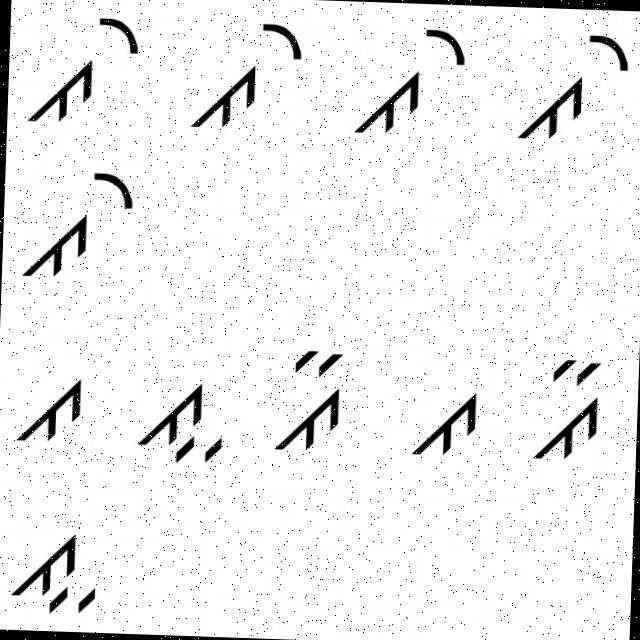ka: (398, 374, 480, 466), (14, 366, 89, 454)
kah: (133, 367, 230, 478), (5, 524, 105, 622)
kan: (270, 342, 352, 460), (524, 348, 606, 465)
kay: (188, 6, 310, 147), (11, 156, 135, 288), (347, 19, 470, 150), (21, 2, 140, 137), (518, 21, 634, 158)
